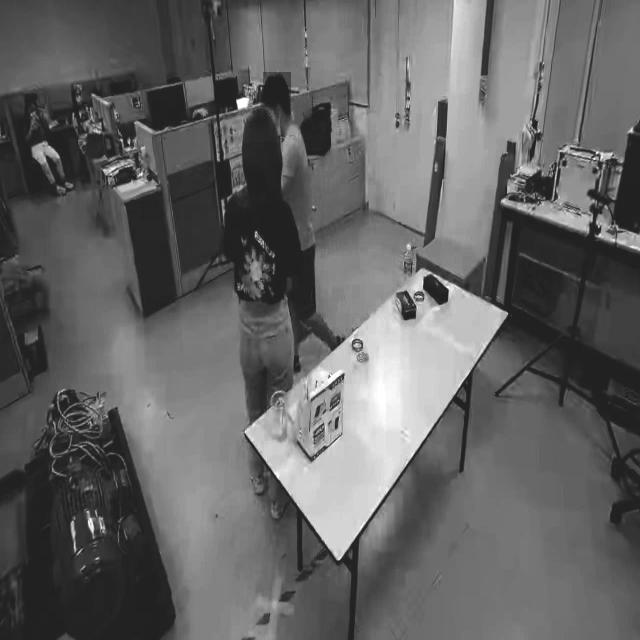hand_noglove: (29, 114, 38, 130)
head_nohelmet: (242, 107, 282, 143), (263, 72, 291, 98), (25, 94, 37, 102), (73, 84, 82, 90)
person: (219, 76, 315, 433), (257, 60, 324, 332), (15, 80, 61, 227)
